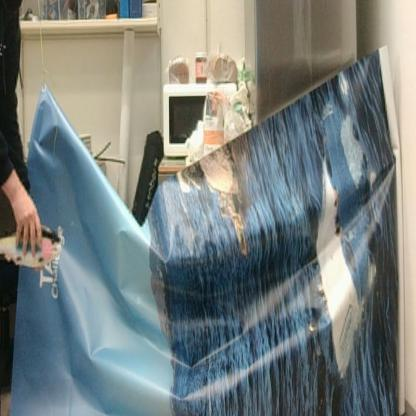rubberfish: (0, 226, 64, 274)
